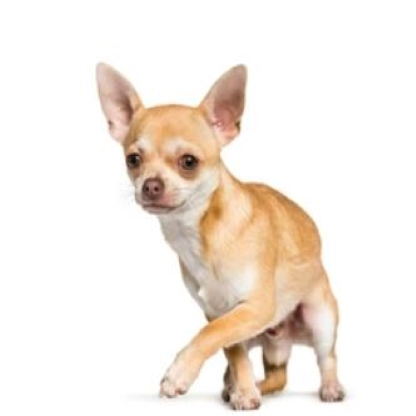chihuahua: (94, 59, 347, 412)
